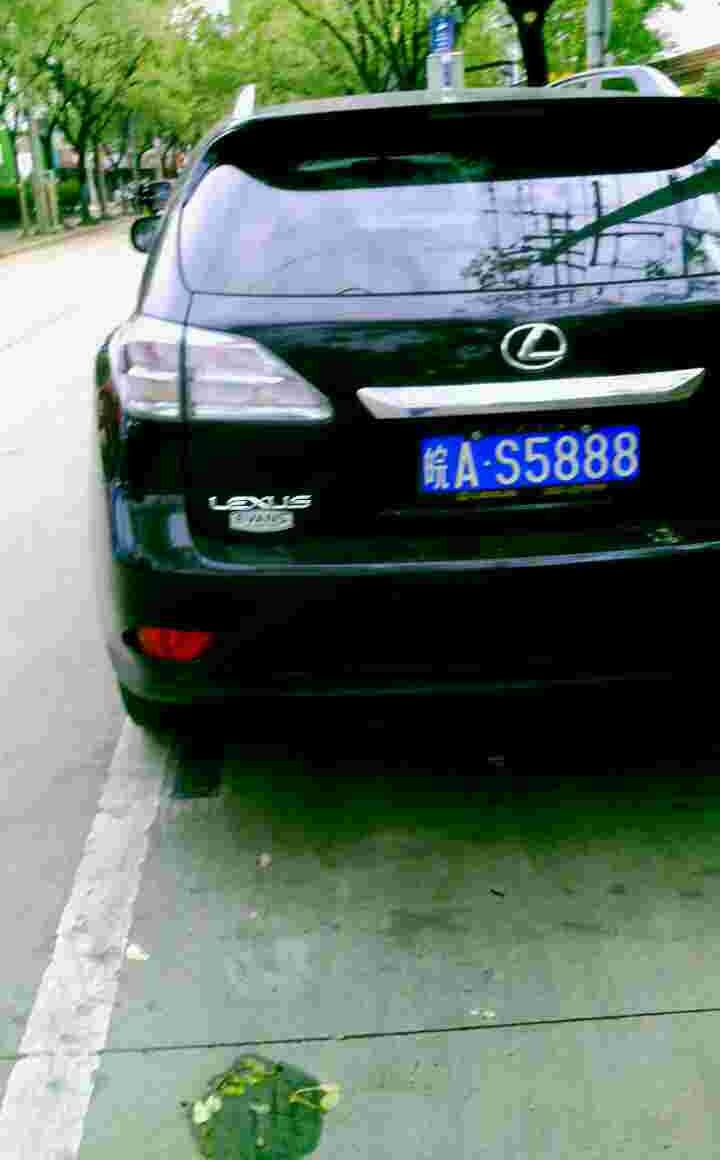license_plate: (422, 420, 638, 501)
